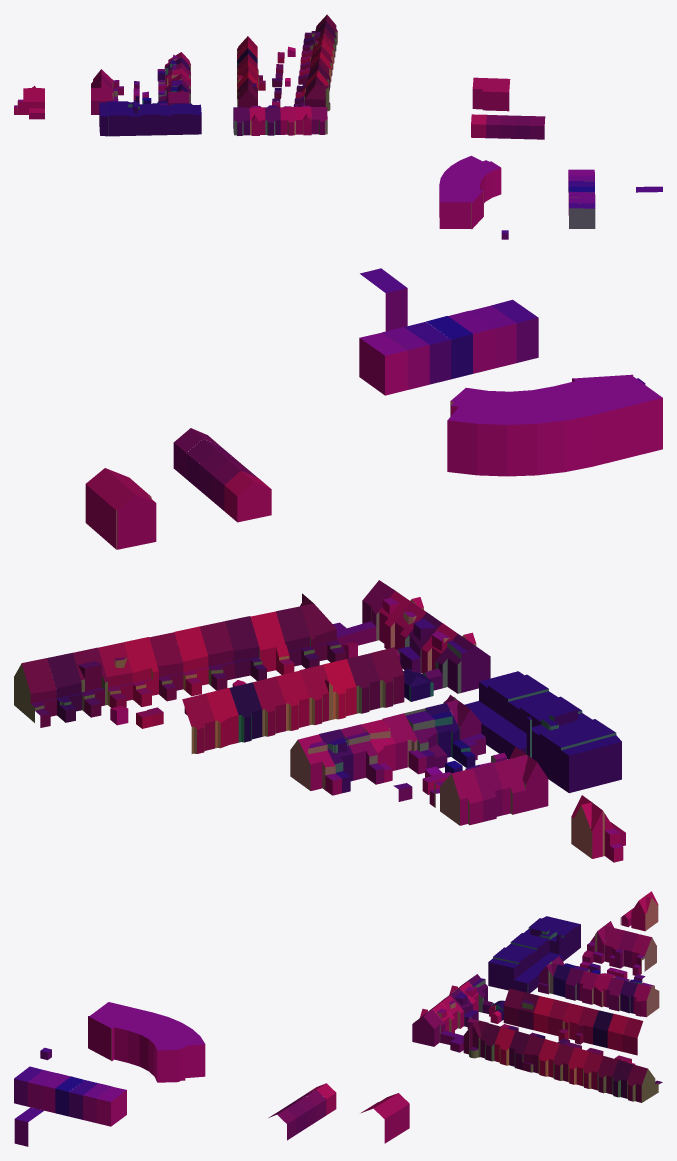
File: buildings_3_7.glb
3 views of the same model, one above another, from view 1: azimuth 30°, elevation 25°; view 2: azimuth 150°, elevation 25°; view 3: azimuth 270°, elevation 25° (orthographic). The views are drawn at different scales.
Visible parts, largest first — view 1: buildings_3_7; view 2: buildings_3_7; view 3: buildings_3_7.
Part boxes in pixels (x1,y1,x2,y2): buildings_3_7: (14, 14, 662, 239); buildings_3_7: (14, 268, 662, 862); buildings_3_7: (14, 891, 662, 1146).
Size of the model in its own units: 177 by 11.5 by 209.
